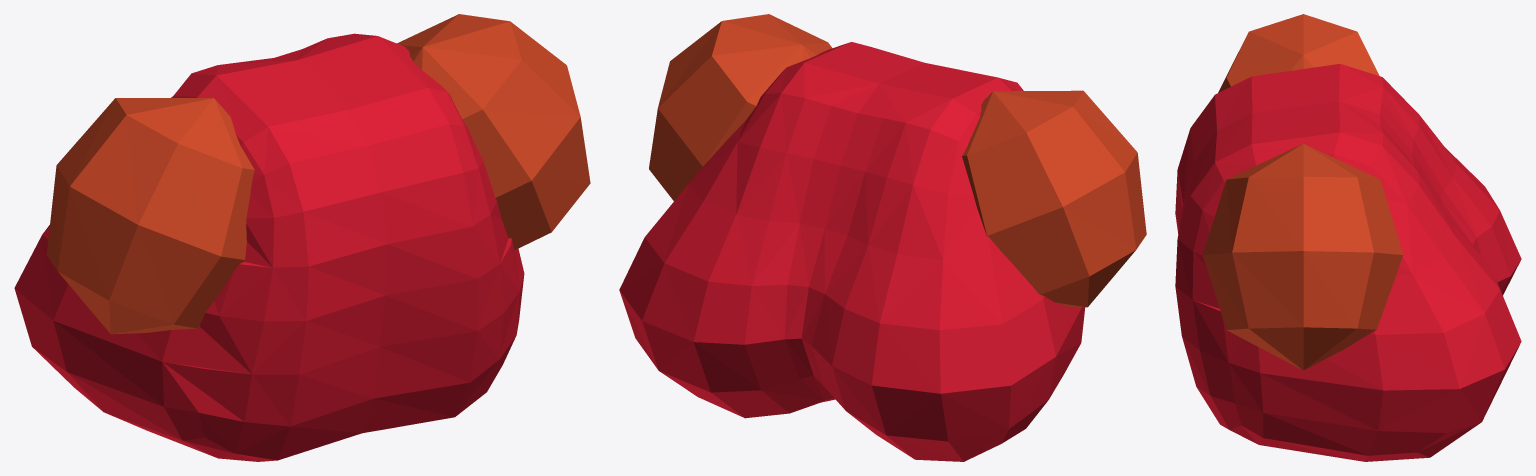
File: boin.FBX
3 renders of one model, left to right at view 1: azimuth 30°, elevation 25°; view 2: azimuth 150°, elevation 25°; view 3: azimuth 270°, elevation 25°, orthographic. The views are drawn at different scales.
Visible parts, largest first — view 1: VIFS001, VIFS002; view 2: VIFS001, VIFS002; view 3: VIFS001, VIFS002.
Boxes of the visible parts, x1,y1,x2,y2 form: VIFS001: (14,33,524,461); VIFS002: (46,14,590,334); VIFS001: (619,42,1085,461); VIFS002: (649,14,1146,307); VIFS001: (1175,64,1521,461); VIFS002: (1202,14,1403,370).
Size of the model in its own units: 0.727 by 0.487 by 0.481.
